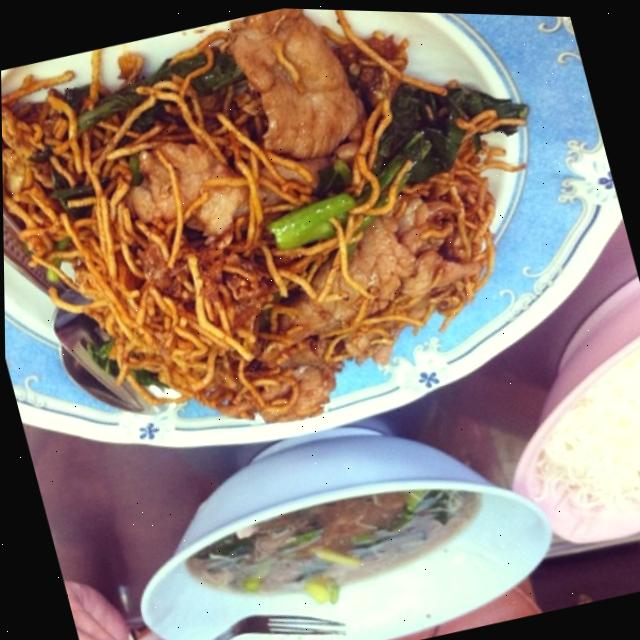面条主食: (0, 0, 544, 505)
